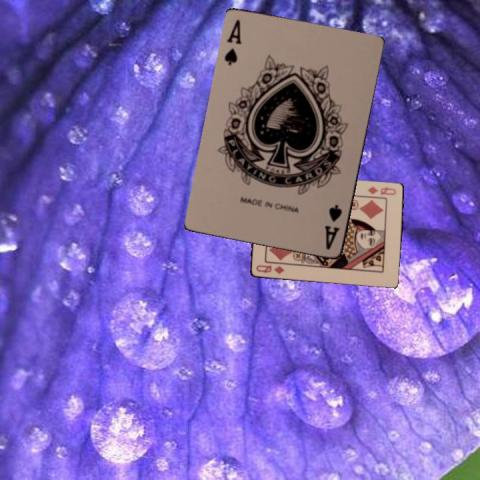As: (321, 202, 344, 251), (222, 17, 244, 67)
Qd: (365, 183, 397, 197), (253, 262, 286, 275)
